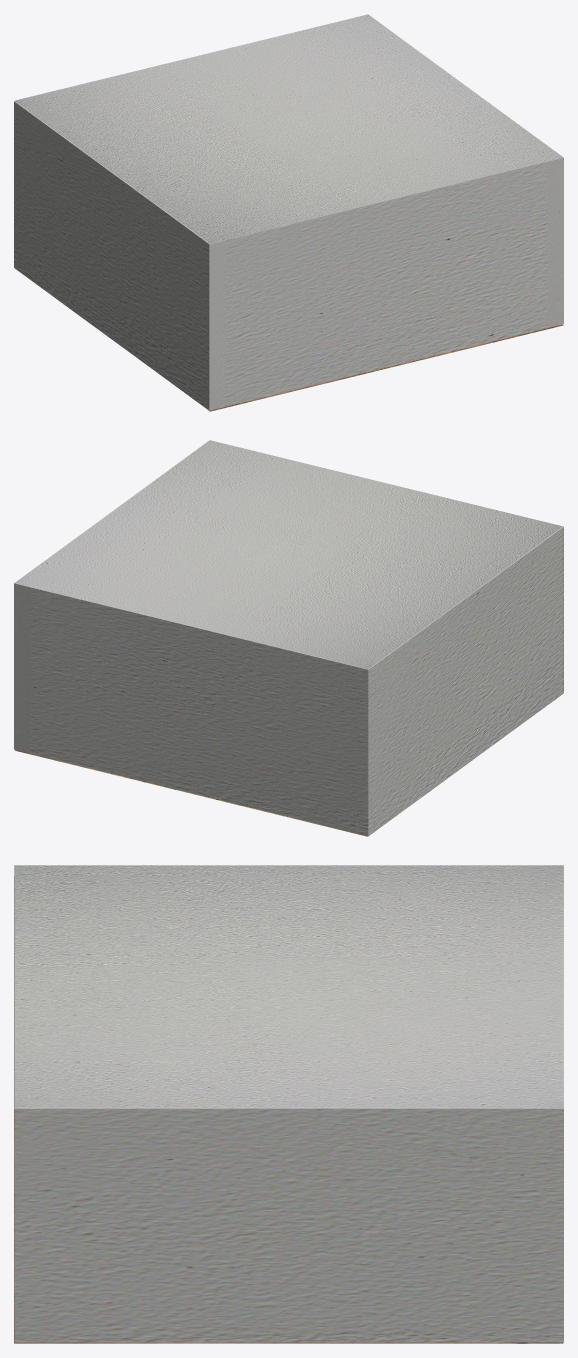
File: soba_zavrsena.obj
3 renders of one model, top to bottom at view 1: azimuth 30°, elevation 25°; view 2: azimuth 150°, elevation 25°; view 3: azimuth 270°, elevation 25°, orthographic. The views are drawn at different scales.
Parts seen in each view (by area): view 1: Plane.001_Plane.002, Cube.001, Cube.004_Cube.007, Cube.003_Cube.005, Plane; view 2: Plane.001_Plane.002, Cube.002_Cube.004, Cube.004_Cube.007, Cube.003_Cube.005, Plane; view 3: Plane.001_Plane.002, Cube.003_Cube.005, Plane.
Boxes of the visible parts, x1,y1,x2,y2 form: Plane.001_Plane.002: (15, 14, 562, 243); Cube.001: (202, 161, 547, 406); Cube.004_Cube.007: (14, 101, 225, 410); Cube.003_Cube.005: (548, 157, 563, 327); Plane: (16, 269, 563, 411); Plane.001_Plane.002: (15, 440, 562, 669); Cube.002_Cube.004: (30, 587, 376, 835); Cube.004_Cube.007: (353, 526, 563, 835); Cube.003_Cube.005: (14, 583, 29, 753); Plane: (15, 694, 562, 836); Plane.001_Plane.002: (14, 865, 563, 1107); Cube.003_Cube.005: (14, 1107, 563, 1342); Plane: (14, 1110, 563, 1343).
Bounding box in the file's own units: 6.91 × 3.13 × 6.6.
Materials: 6 (6 with a texture image).
